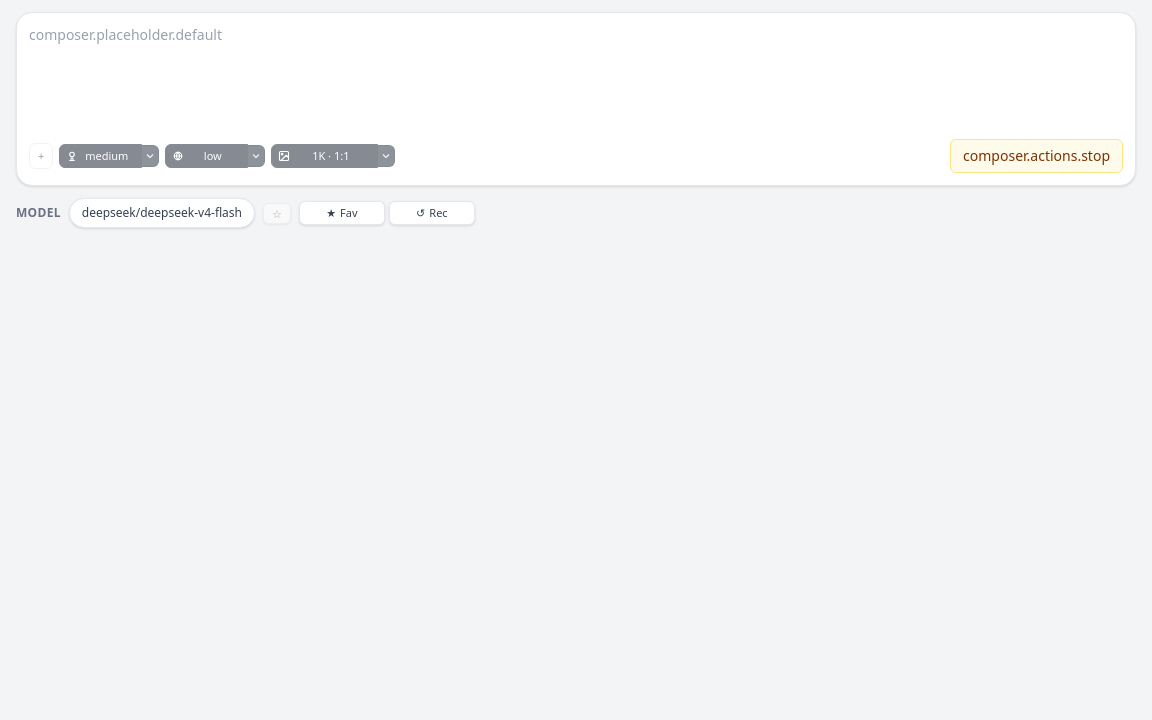
Scenario: ChatAppComposer model picker integration › opens model picker dialog from current model pill while running
Step 1. Click the button with test id "current-model-pill" → click(162, 213), box [69,198,255,228]
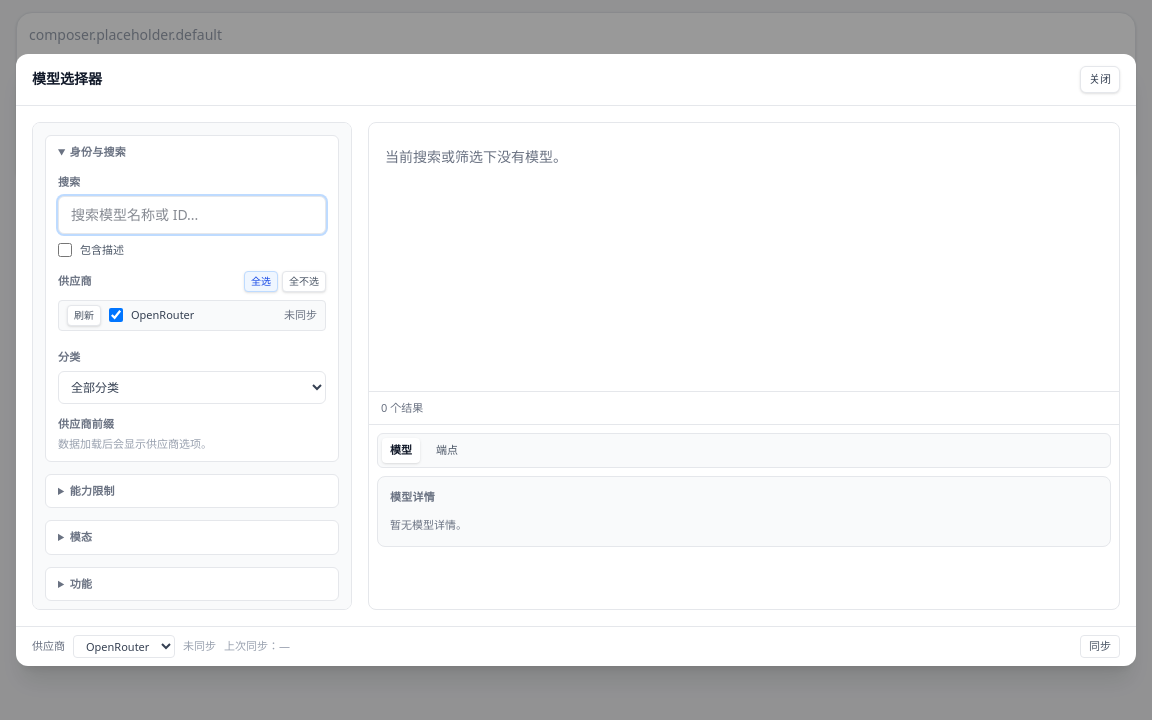
Check: the element with test id "model-picker-dialog" is shown
